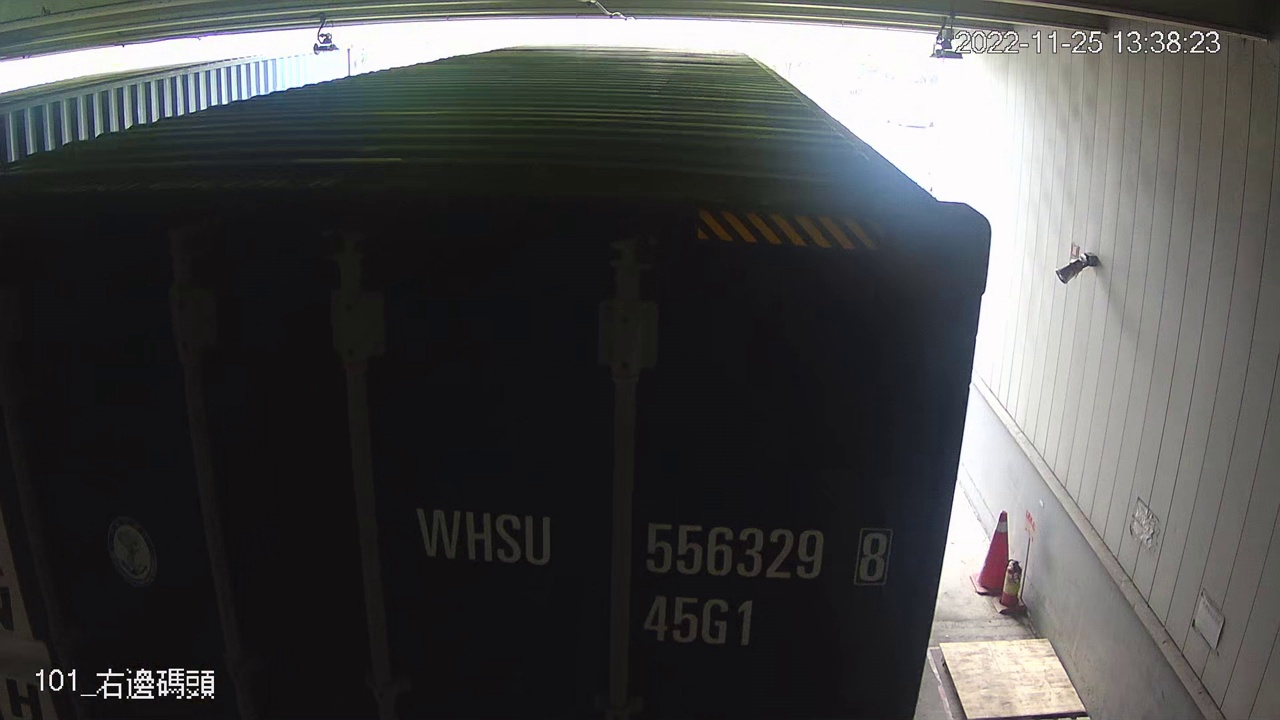container: (400, 486, 898, 662)
